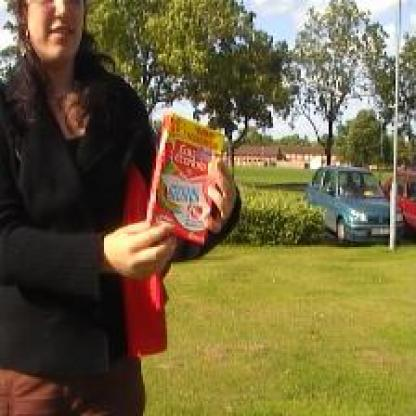other: (125, 116, 213, 340)
